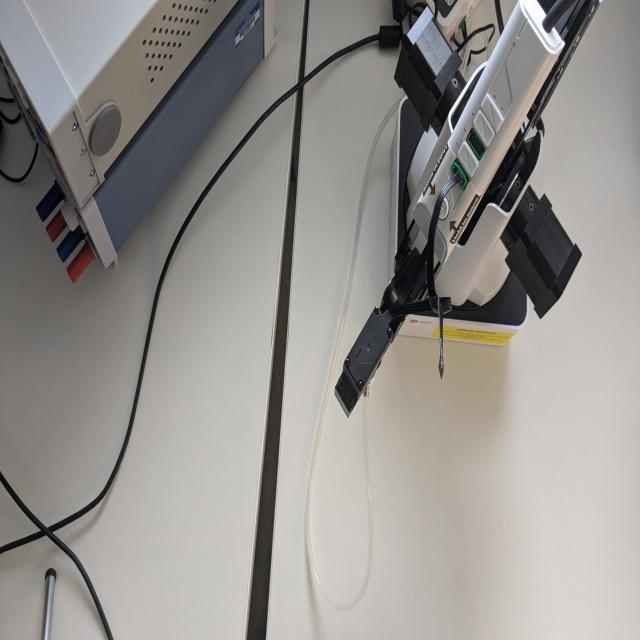Robot-end-effector-HF8z: (334, 298, 401, 420)
